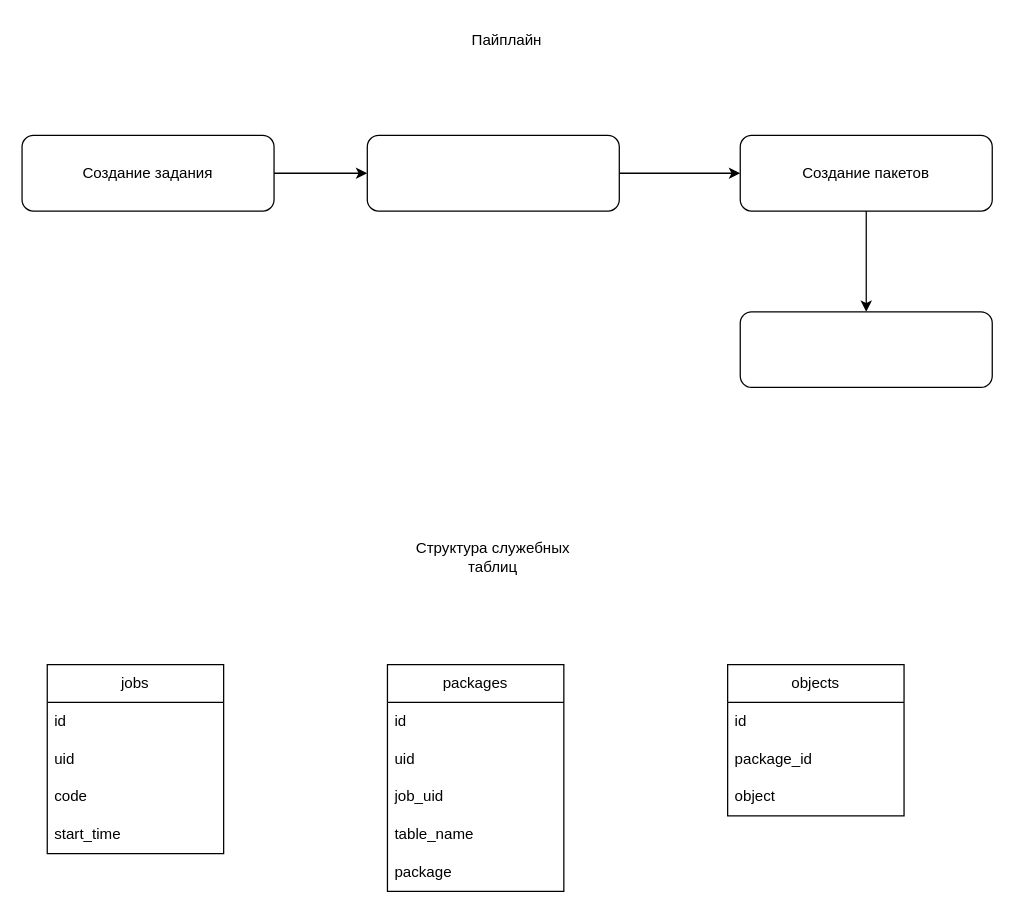
Some shapes in this 1014 by 914 pixel diagram are drawn without their labels. The shapes that lost their labels are listed below. From the top down, each one's centre as x and y in pixels, then its label:
pixel 492 172: Получение данных из API
pixel 865 349: Загрузка в ХД
